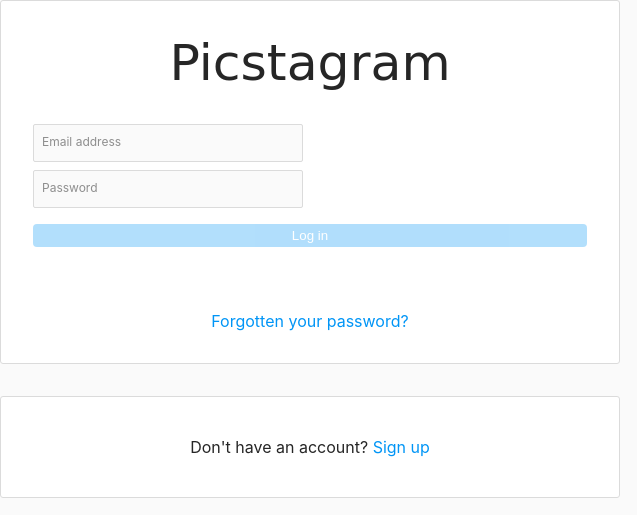
Login › when the user's credentials is not correct › prevents the user from logging in
The width and height of the screenshot is (637, 515).
Type "test@example.com" into the field labelled "Email address".
click(168, 143); type("test@example.com")  # box top-left (33, 124), bottom-right (303, 162)
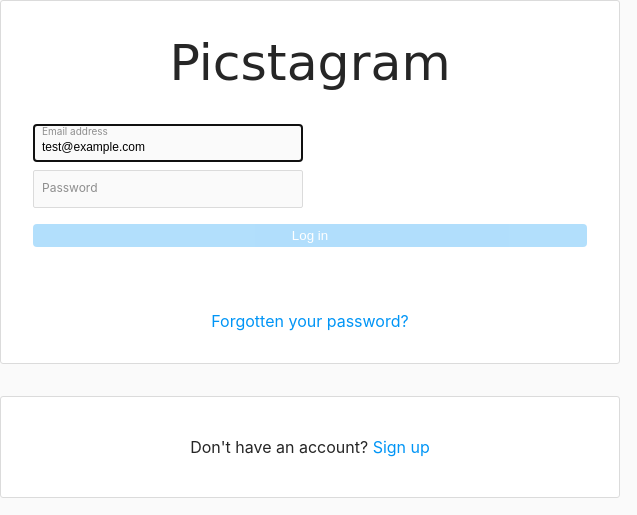
Type "s3c3r3tp@ss" into the password field labelled "Password".
click(168, 189); type("s3c3r3tp@ss")  # box top-left (33, 170), bottom-right (303, 208)
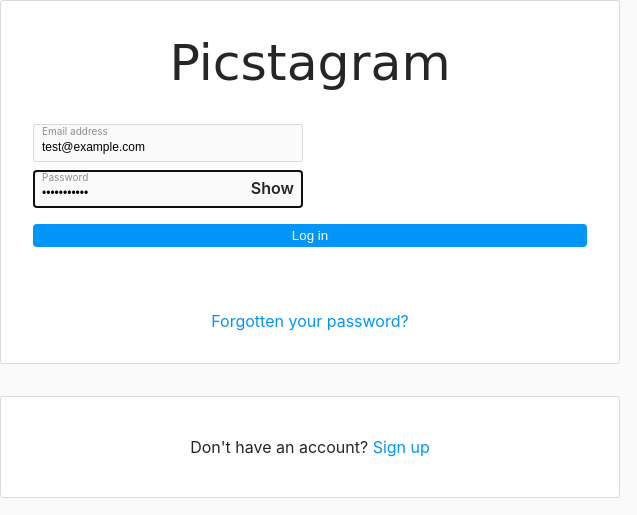
Click the button "Log in".
click(310, 236)  # box top-left (33, 224), bottom-right (587, 247)
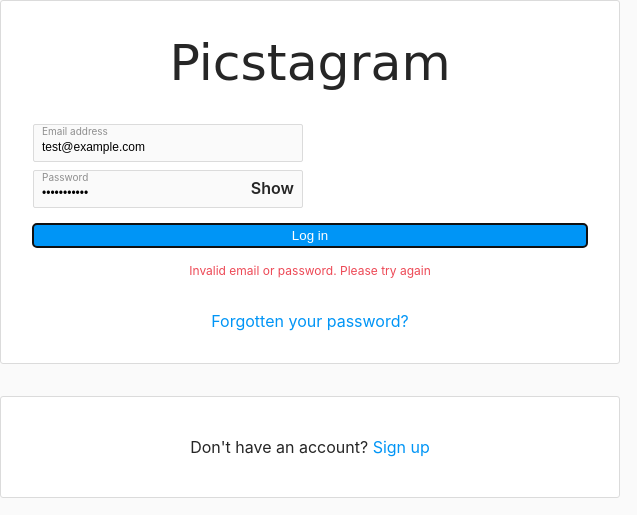
Expected: the text "Invalid email or password. Please try again" is shown, top-left (189, 263), bottom-right (431, 278)
